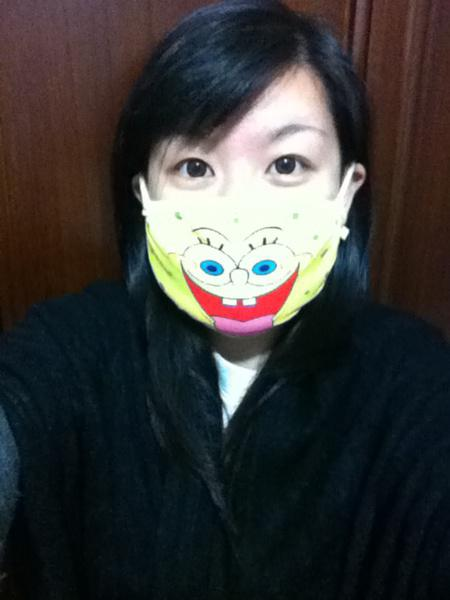OK: (132, 107, 349, 322)
